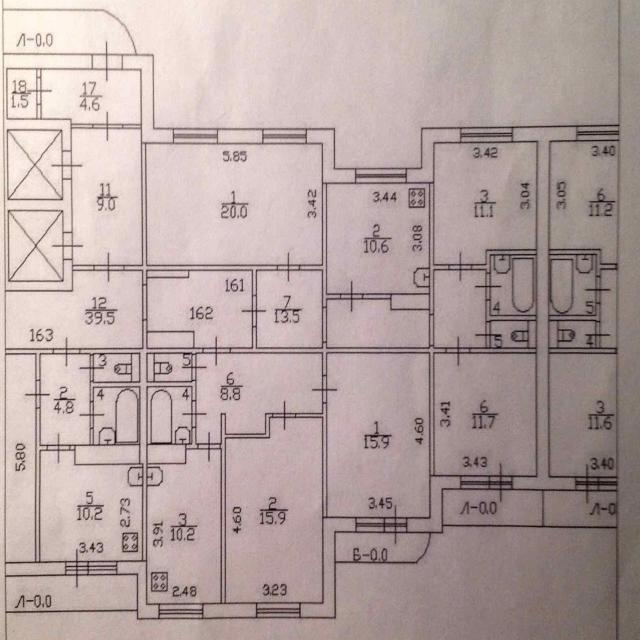Bathrooms: (491, 255, 536, 314), (551, 256, 595, 314), (148, 388, 191, 443), (95, 389, 139, 442), (95, 355, 138, 382), (148, 354, 191, 381), (550, 321, 595, 346), (492, 322, 535, 348)
Corridors: (197, 353, 322, 442), (6, 271, 142, 347), (73, 130, 142, 264), (148, 271, 252, 346), (6, 355, 35, 561), (3, 11, 136, 54), (42, 70, 140, 123), (328, 300, 429, 347), (258, 273, 322, 345), (6, 576, 137, 611), (42, 355, 89, 444), (436, 272, 485, 346), (444, 491, 542, 525), (336, 534, 429, 561), (543, 491, 616, 525), (8, 70, 37, 118), (602, 272, 617, 349)
Doors: (91, 38, 123, 82), (91, 108, 123, 142), (93, 251, 124, 283), (51, 231, 84, 261), (575, 463, 598, 505), (65, 547, 88, 589), (52, 150, 84, 179), (491, 461, 513, 503), (385, 504, 407, 545), (53, 336, 80, 369), (203, 335, 231, 366), (447, 249, 472, 283), (23, 379, 51, 409), (475, 272, 503, 301), (311, 374, 338, 404), (242, 296, 267, 328), (273, 399, 297, 432), (340, 278, 363, 312), (47, 431, 70, 465), (198, 430, 221, 463), (277, 250, 300, 283), (474, 321, 502, 348), (78, 401, 105, 429), (80, 352, 105, 382), (181, 354, 208, 381), (181, 401, 207, 429), (584, 277, 612, 303), (446, 336, 470, 366), (27, 78, 53, 105), (585, 322, 611, 348), (142, 284, 147, 321), (322, 306, 327, 342), (429, 314, 434, 345)
LBwalls: (513, 125, 577, 491), (300, 516, 355, 619), (122, 54, 174, 145), (8, 180, 73, 232), (407, 474, 460, 534), (407, 126, 460, 184), (307, 128, 356, 184), (118, 560, 159, 620), (8, 118, 72, 151), (10, 260, 73, 292), (3, 53, 92, 70), (75, 444, 139, 464), (5, 561, 65, 577), (203, 602, 257, 618), (146, 444, 187, 464), (147, 331, 195, 348), (219, 128, 263, 144), (391, 293, 430, 310), (146, 270, 189, 278)
Offices: (147, 144, 322, 264), (226, 417, 322, 602), (328, 354, 428, 516), (435, 142, 536, 263), (435, 355, 536, 473), (41, 451, 143, 561), (149, 450, 221, 603), (328, 184, 428, 292), (551, 141, 618, 262), (551, 355, 616, 475)
Walls: (231, 326, 446, 476), (80, 321, 203, 561), (123, 144, 278, 297), (221, 412, 273, 603), (300, 184, 341, 308), (296, 404, 328, 517), (429, 183, 449, 315), (551, 249, 617, 276), (2, 69, 10, 291), (36, 408, 47, 562), (4, 348, 53, 381), (471, 249, 537, 271), (486, 299, 536, 321), (550, 303, 601, 321), (470, 347, 536, 354), (550, 348, 617, 354), (186, 427, 198, 450), (364, 293, 391, 299), (70, 123, 92, 129), (72, 265, 94, 271), (122, 124, 141, 129), (89, 429, 94, 446), (541, 491, 543, 526), (37, 105, 41, 119), (36, 69, 41, 78)
Windows: (460, 127, 513, 143), (355, 168, 407, 184), (256, 601, 301, 618), (263, 128, 307, 145), (173, 128, 218, 144), (158, 603, 203, 619), (576, 126, 620, 141), (355, 516, 384, 534), (460, 476, 490, 491), (88, 561, 118, 576), (597, 476, 618, 492)
